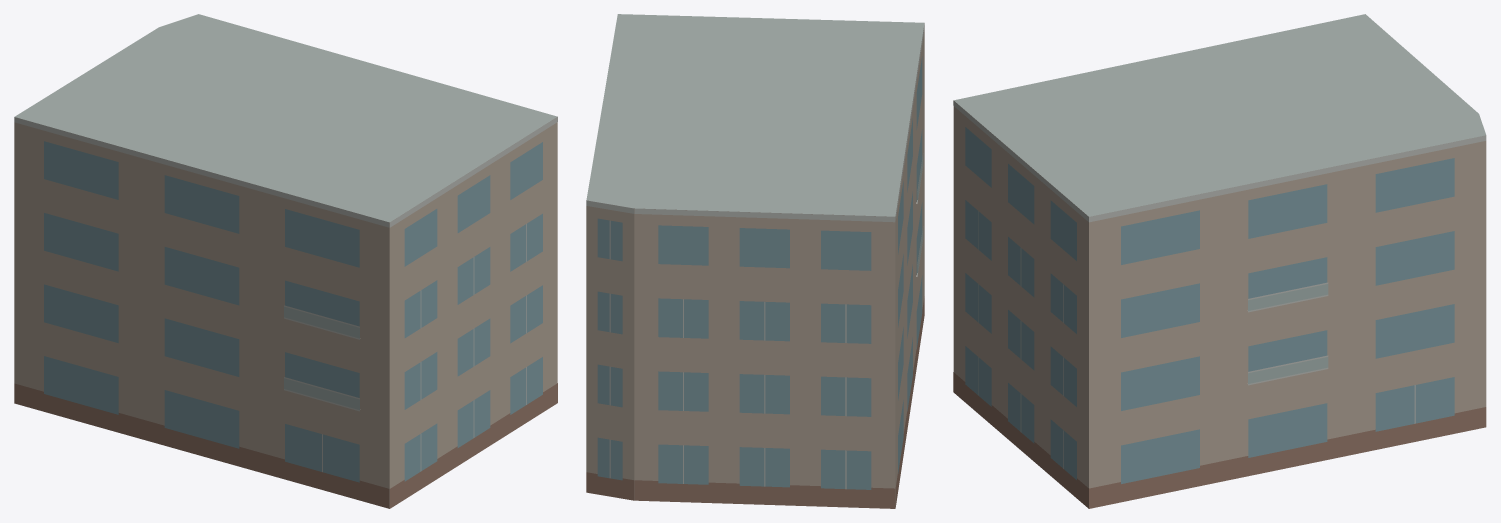
File: survey-upis-33032950.glb
The picture shows the model from 3 angles, left to right: view 1: azimuth 30°, elevation 25°; view 2: azimuth 150°, elevation 25°; view 3: azimuth 270°, elevation 25°; orthographic projection.
Visible parts, largest first — view 1: survey-upis-33032950.tmp; view 2: survey-upis-33032950.tmp; view 3: survey-upis-33032950.tmp.
Boxes of the visible parts, x1,y1,x2,y2 form: survey-upis-33032950.tmp: (14, 14, 557, 508); survey-upis-33032950.tmp: (586, 14, 924, 508); survey-upis-33032950.tmp: (953, 14, 1486, 508).
Bounding box in the file's own units: 19.38 × 13 × 21.51.
